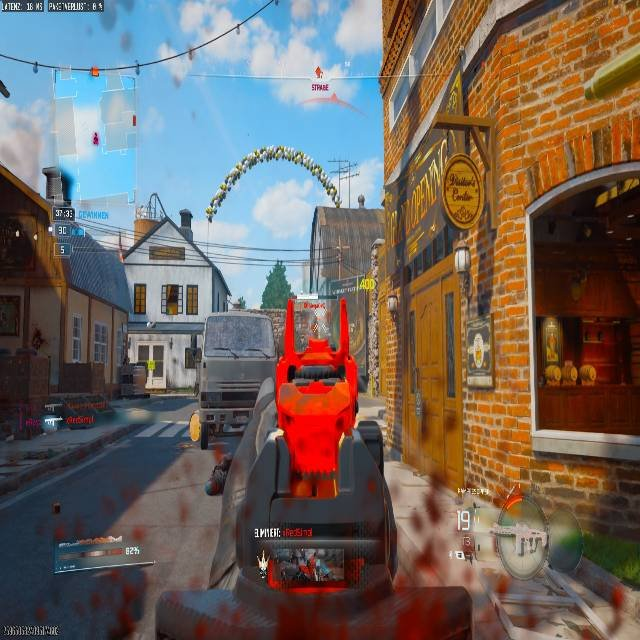player: (451, 505, 639, 639), (357, 192, 365, 208)
